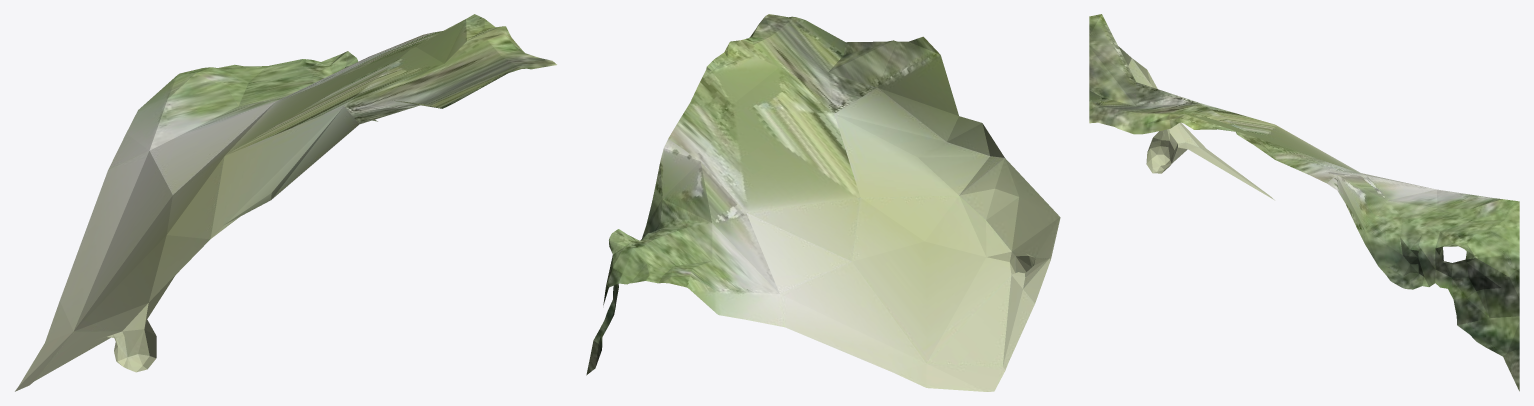
3 renders of one model, left to right at view 1: azimuth 30°, elevation 25°; view 2: azimuth 150°, elevation 25°; view 3: azimuth 270°, elevation 25°, orthographic. The views are drawn at different scales.
Size of the model in its own units: 26.11 by 19.68 by 26.11.
Materials: 3 (3 with a texture image).
